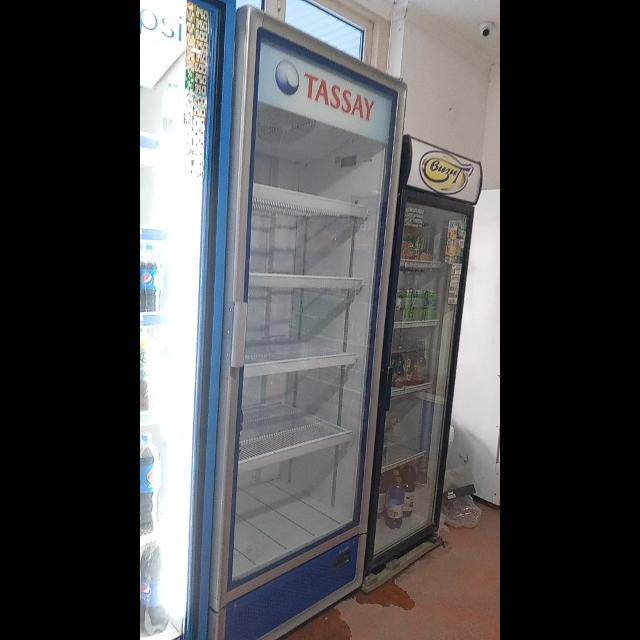Cooling-Display: (216, 3, 408, 639)
